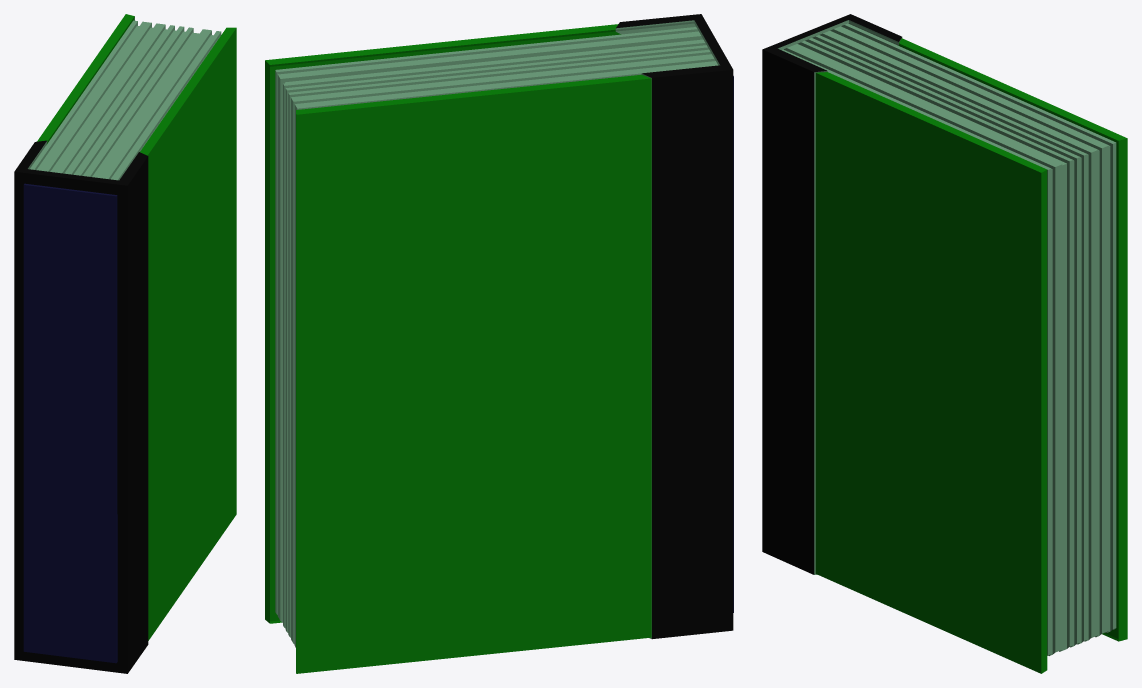
The model's file is TopShelfBook3.fbx.
The picture shows the model from 3 angles, left to right: view 1: azimuth 30°, elevation 25°; view 2: azimuth 150°, elevation 25°; view 3: azimuth 270°, elevation 25°; orthographic projection. The views are drawn at different scales.
Visible parts, largest first — view 1: Book.019; view 2: Book.019; view 3: Book.019.
Part boxes in pixels (x1,y1,x2,y2): Book.019: [14, 14, 236, 673]; Book.019: [265, 14, 733, 673]; Book.019: [762, 14, 1127, 673].
Size of the model in its own units: 118 by 175 by 115.
